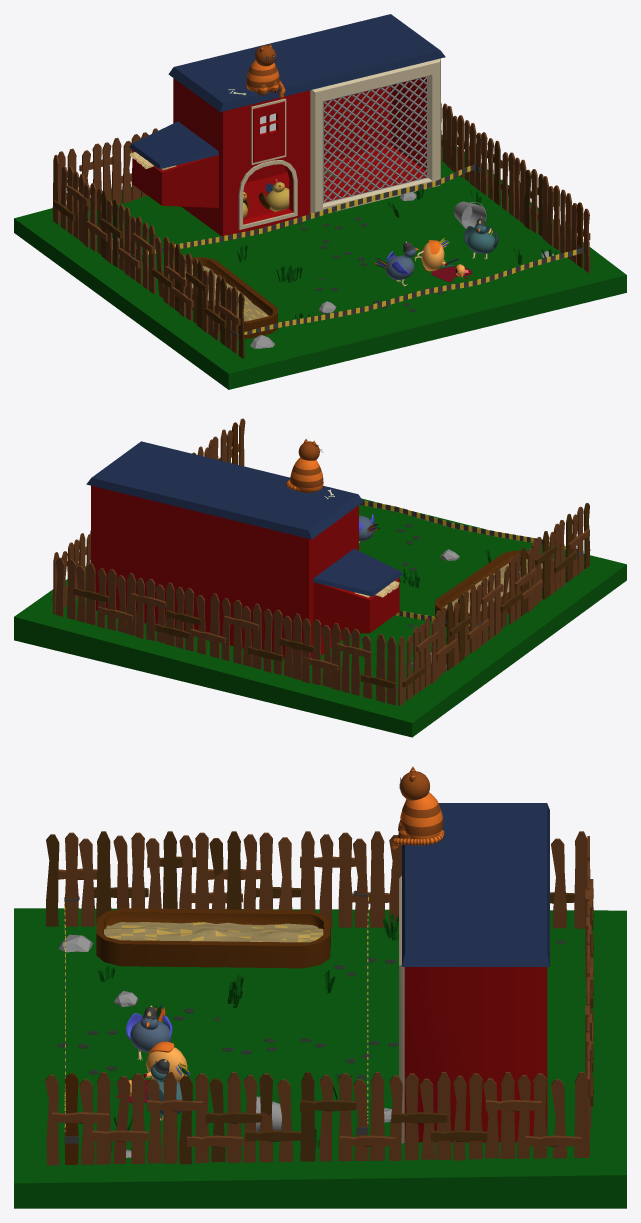
Rendered from kuku.fbx.
3 renders of one model, top to bottom at view 1: azimuth 30°, elevation 25°; view 2: azimuth 150°, elevation 25°; view 3: azimuth 270°, elevation 25°, orthographic. The views are drawn at different scales.
Visible parts, largest first — view 1: Plane, Cube, Cube.003, Cube.070, Cube.001, Cube.002, Plane.025, Plane.125, Cube.004, Cube.007, Plane.018, Plane.014 (+17 smaller); view 2: Plane, Cube, Cube.003, Cube.001, Plane.018, Cube.002, Plane.017, Plane.020, Plane.023, Plane.019, Plane.022, Plane.021 (+14 smaller); view 3: Plane, Cube.003, Cube, Cube.007, Plane.002, Plane.007, Plane.016, Plane.015, Cube.071, Plane.014, Plane.006, Plane.009 (+23 smaller).
Boxes of the visible parts, x1=… form: Plane: x1=14, y1=135, x2=626, y2=389; Cube: x1=173, y1=58, x2=440, y2=236; Cube.003: x1=168, y1=14, x2=445, y2=112; Cube.070: x1=323, y1=76, x2=428, y2=203; Cube.001: x1=132, y1=150, x2=218, y2=207; Cube.002: x1=129, y1=121, x2=218, y2=169; Plane.025: x1=231, y1=245, x2=583, y2=336; Plane.125: x1=130, y1=164, x2=481, y2=258; Cube.004: x1=253, y1=101, x2=284, y2=161; Cube.007: x1=174, y1=257, x2=277, y2=338; Plane.018: x1=58, y1=142, x2=111, y2=219; Plane.014: x1=494, y1=140, x2=520, y2=220; Plane: x1=14, y1=498, x2=626, y2=737; Cube: x1=91, y1=485, x2=358, y2=658; Cube.003: x1=86, y1=441, x2=363, y2=539; Cube.001: x1=313, y1=578, x2=399, y2=634; Plane.018: x1=341, y1=627, x2=396, y2=705; Cube.002: x1=313, y1=548, x2=402, y2=596; Plane.017: x1=302, y1=618, x2=341, y2=690; Plane.020: x1=263, y1=608, x2=302, y2=680; Plane.023: x1=55, y1=557, x2=96, y2=625; Plane.019: x1=221, y1=598, x2=262, y2=669; Plane.022: x1=175, y1=587, x2=219, y2=658; Plane.021: x1=136, y1=578, x2=175, y2=646; Plane: x1=14, y1=908, x2=626, y2=1208; Cube.003: x1=402, y1=803, x2=549, y2=966; Cube: x1=399, y1=876, x2=547, y2=1143; Cube.007: x1=96, y1=908, x2=330, y2=968; Plane.002: x1=319, y1=831, x2=384, y2=927; Plane.007: x1=46, y1=831, x2=111, y2=926; Plane.016: x1=113, y1=1072, x2=177, y2=1163; Plane.015: x1=45, y1=1072, x2=111, y2=1165; Cube.071: x1=104, y1=922, x2=323, y2=942; Plane.014: x1=243, y1=1072, x2=315, y2=1162; Plane.006: x1=243, y1=831, x2=315, y2=912; Plane.009: x1=453, y1=1072, x2=515, y2=1160.
Bounding box in the file's own units: 1552 × 745 × 1449.
